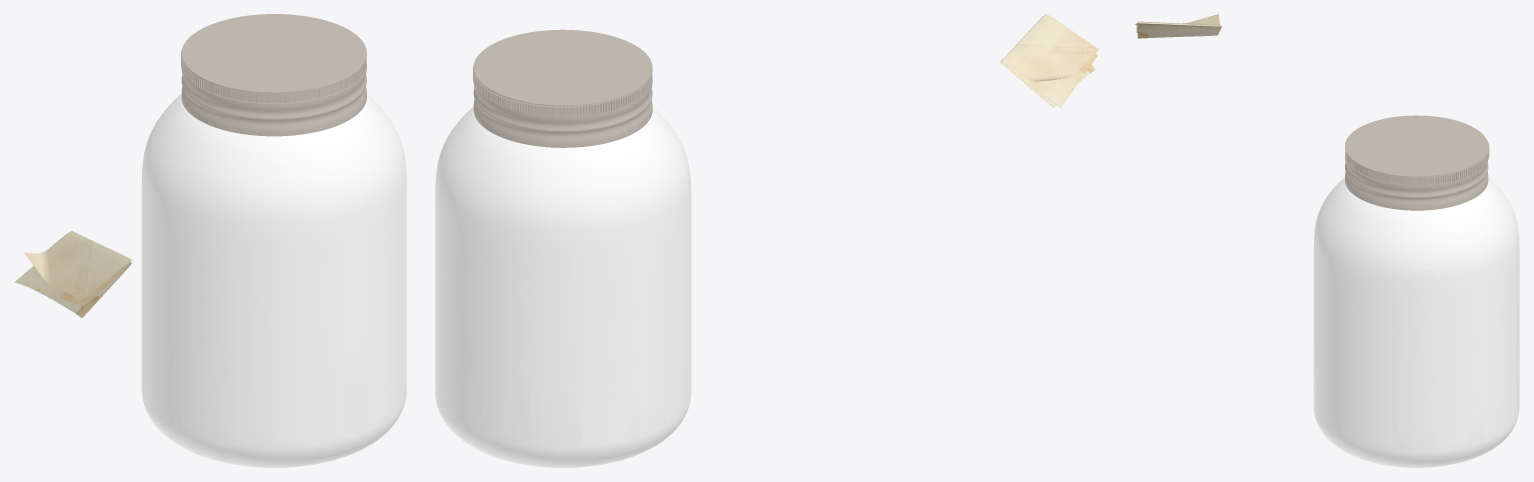
The model's file is breakingJar-transformed.glb.
The picture shows the model from 3 angles, left to right: view 1: azimuth 30°, elevation 25°; view 2: azimuth 150°, elevation 25°; view 3: azimuth 270°, elevation 25°; orthographic projection. The views are drawn at different scales.
Visible parts, largest first — view 1: defaultMaterial, defaultMaterial_1, defaultMaterial_cell.085, Map07, defaultMaterial_cell.044, defaultMaterial_cell.067, defaultMaterial_cell.005, defaultMaterial_cell.036, defaultMaterial_cell.088, defaultMaterial_cell.042, defaultMaterial_cell.046, defaultMaterial_cell.009 (+10 smaller); view 2: defaultMaterial, defaultMaterial_1, Map07, defaultMaterial_cell.041, defaultMaterial_cell.013, defaultMaterial_cell.074, defaultMaterial_cell.066, defaultMaterial_cell.070, defaultMaterial_cell.079, defaultMaterial_cell, defaultMaterial_cell.034, defaultMaterial_cell.045 (+12 smaller); view 3: defaultMaterial, defaultMaterial_1, defaultMaterial_cell.048, defaultMaterial_cell.056, defaultMaterial_cell.031, defaultMaterial_cell.085, defaultMaterial_cell.010, defaultMaterial_cell.037, Map07, defaultMaterial_cell.014, defaultMaterial_cell.004, defaultMaterial_cell.075 (+14 smaller).
Part boxes in pixels (box(x1,y1,x2,y2)): defaultMaterial: box(142, 94, 406, 467); defaultMaterial_1: box(181, 14, 366, 136); defaultMaterial_cell.085: box(267, 220, 406, 352); Map07: box(14, 230, 132, 317); defaultMaterial_cell.044: box(305, 350, 369, 450); defaultMaterial_cell.067: box(167, 145, 268, 290); defaultMaterial_cell.005: box(149, 235, 272, 352); defaultMaterial_cell.036: box(252, 181, 350, 308); defaultMaterial_cell.088: box(180, 335, 273, 448); defaultMaterial_cell.042: box(281, 144, 367, 232); defaultMaterial_cell.046: box(168, 346, 250, 430); defaultMaterial_cell.009: box(150, 114, 204, 203); defaultMaterial: box(435, 107, 691, 467); defaultMaterial_1: box(473, 29, 652, 147); Map07: box(1000, 14, 1099, 107); defaultMaterial_cell.041: box(463, 197, 600, 284); defaultMaterial_cell.013: box(516, 256, 619, 347); defaultMaterial_cell.074: box(526, 382, 592, 467); defaultMaterial_cell.066: box(610, 286, 660, 385); defaultMaterial_cell.070: box(613, 214, 682, 308); defaultMaterial_cell.079: box(446, 249, 487, 356); defaultMaterial_cell: box(610, 334, 685, 406); defaultMaterial_cell.034: box(575, 202, 650, 294); defaultMaterial_cell.045: box(479, 145, 577, 209); defaultMaterial: box(1313, 177, 1519, 467); defaultMaterial_1: box(1345, 115, 1489, 210); defaultMaterial_cell.048: box(1346, 347, 1440, 434); defaultMaterial_cell.056: box(1432, 235, 1511, 299); defaultMaterial_cell.031: box(1375, 210, 1447, 270); defaultMaterial_cell.085: box(1314, 254, 1358, 375); defaultMaterial_cell.010: box(1469, 317, 1515, 415); defaultMaterial_cell.037: box(1398, 315, 1482, 373); Map07: box(1135, 14, 1221, 38); defaultMaterial_cell.014: box(1330, 229, 1375, 295); defaultMaterial_cell.004: box(1347, 254, 1415, 315); defaultMaterial_cell.075: box(1352, 287, 1429, 347).
Size of the model in its own units: 22.27 by 15.93 by 19.03.
Materials: 3 (3 with a texture image).
